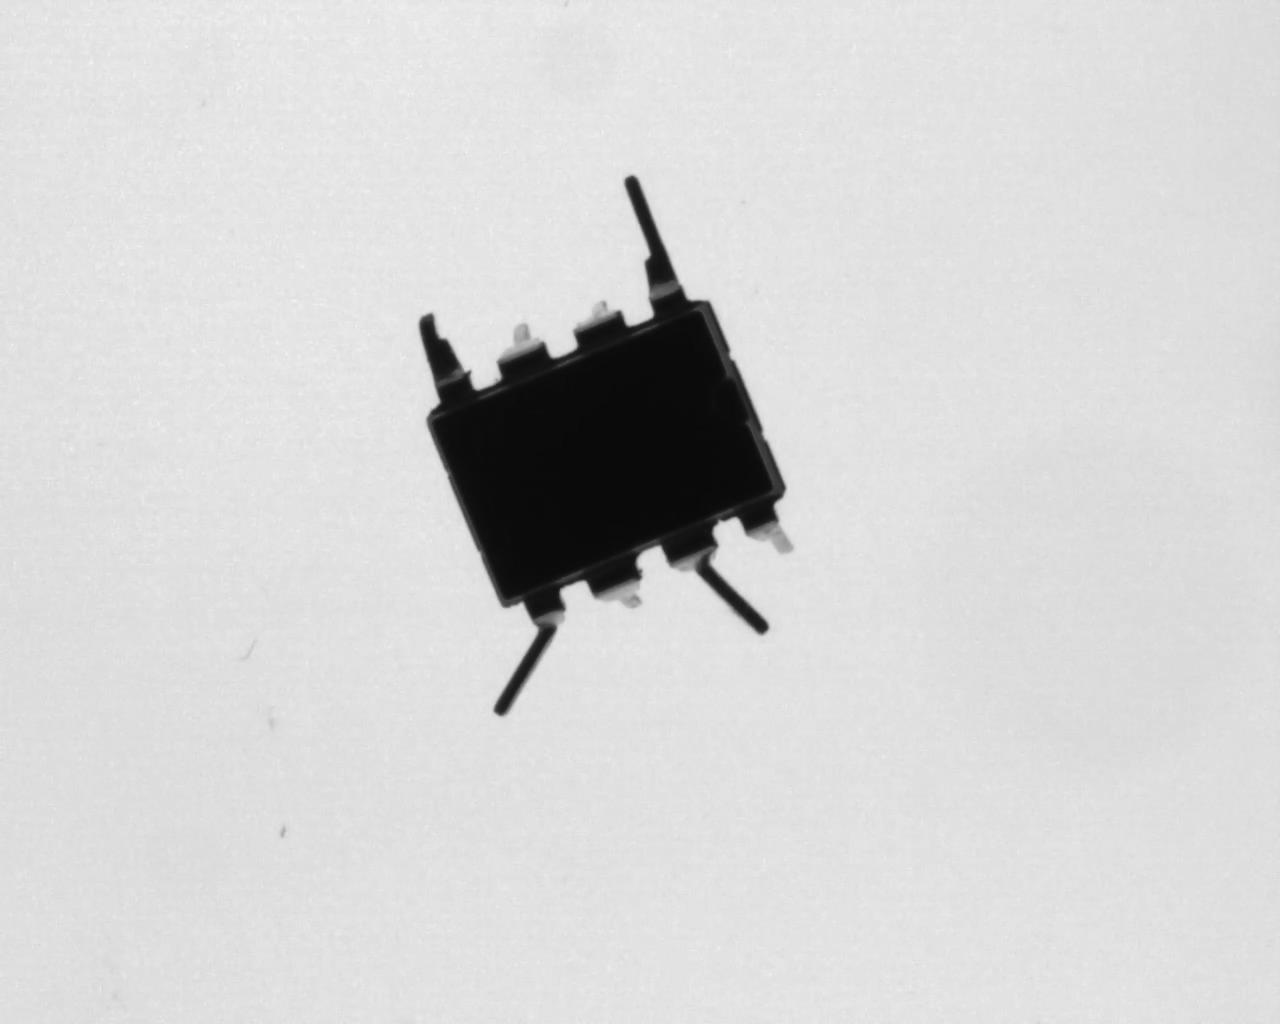Leg: (662, 522, 770, 636), (625, 174, 692, 321), (494, 588, 567, 717), (418, 311, 472, 403), (495, 322, 552, 379), (587, 555, 647, 609), (742, 499, 794, 555), (572, 299, 629, 349)
